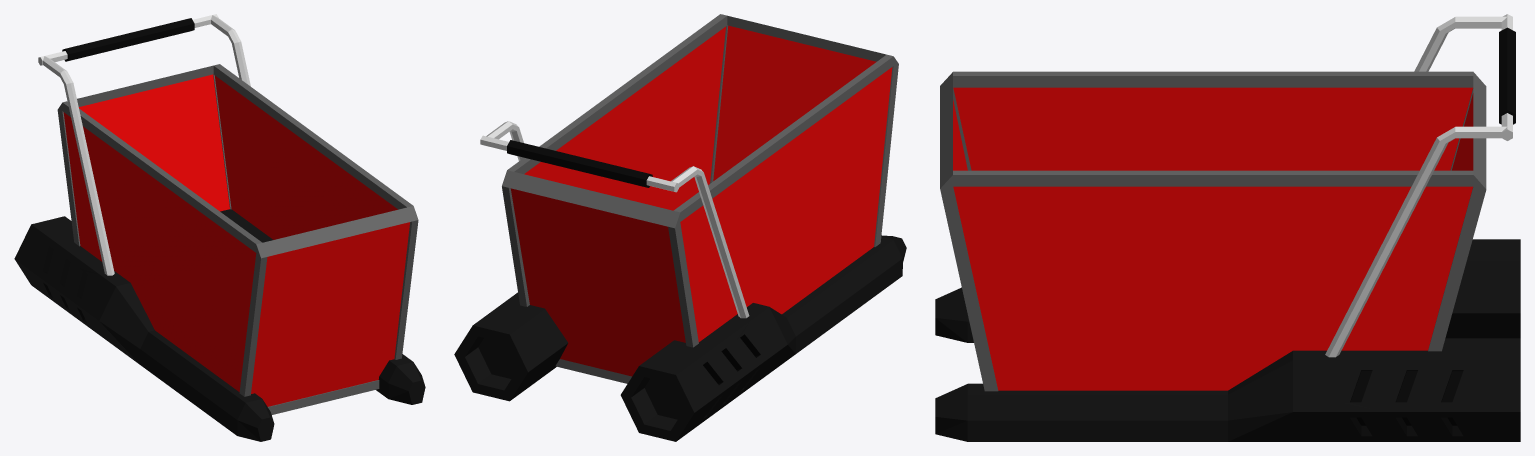
Rendered from W-CartIII.FBX.
3 renders of one model, left to right at view 1: azimuth 30°, elevation 25°; view 2: azimuth 150°, elevation 25°; view 3: azimuth 270°, elevation 25°, orthographic. The views are drawn at different scales.
Visible parts, largest first — view 1: Mesh, Frame, Boosters; view 2: Mesh, Boosters, Frame; view 3: Mesh, Boosters, Frame.
Boxes of the visible parts, <box> form: Mesh: <box>63,74,409,406</box>; Frame: <box>38,14,418,414</box>; Boosters: <box>14,209,425,441</box>; Mesh: <box>510,25,892,376</box>; Boosters: <box>454,235,906,441</box>; Frame: <box>480,14,898,383</box>; Mesh: <box>953,87,1473,390</box>; Boosters: <box>935,239,1520,441</box>; Frame: <box>940,14,1515,391</box>.
Bounding box in the file's own units: 52 × 54.13 × 90.
